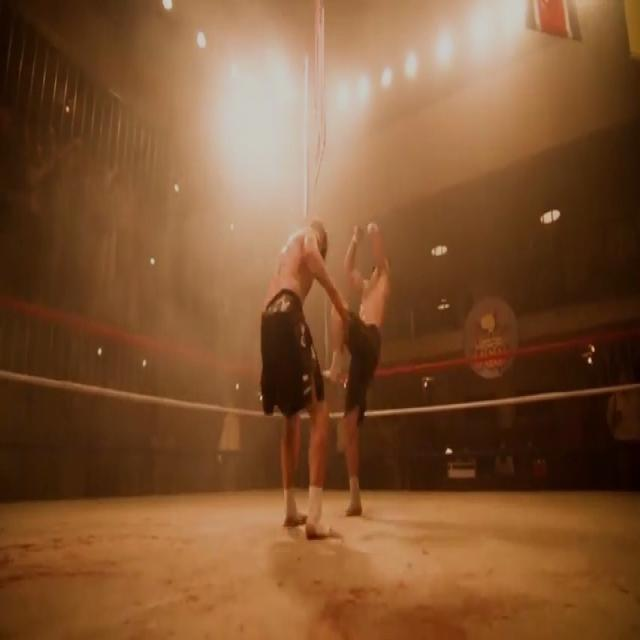fight: (260, 218, 398, 536)
